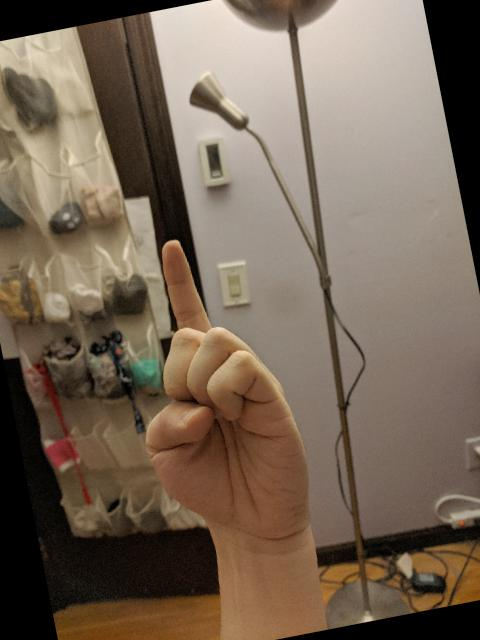D: (102, 216, 329, 572)
